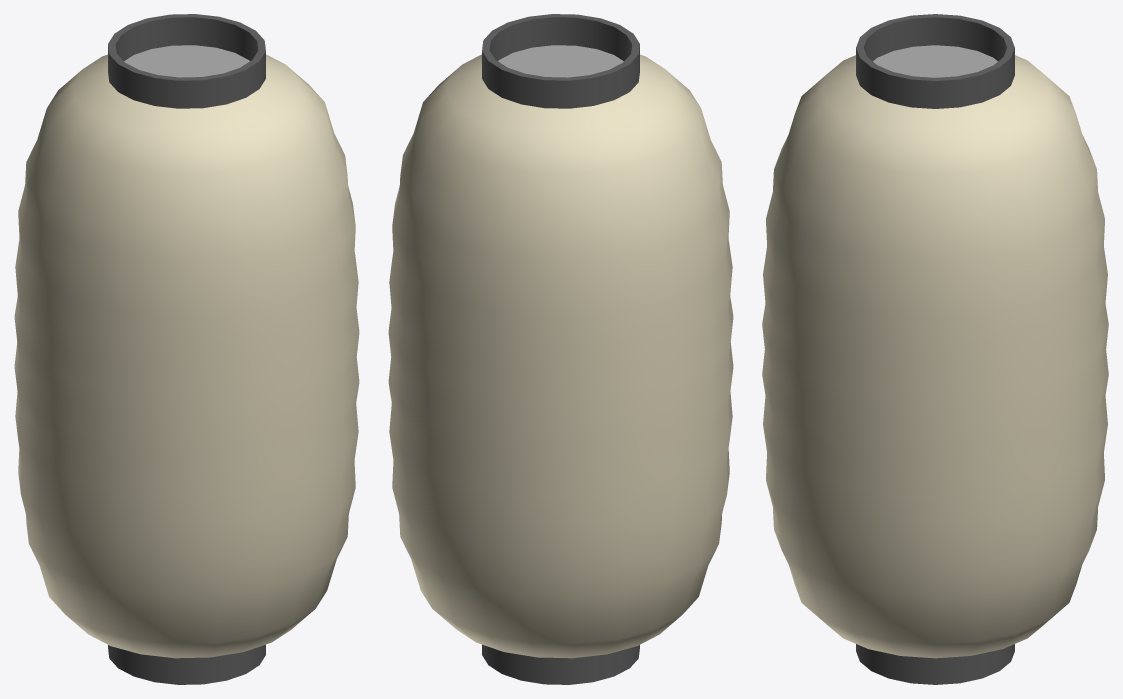
File: Lamp.fbx
The picture shows the model from 3 angles, left to right: view 1: azimuth 30°, elevation 25°; view 2: azimuth 150°, elevation 25°; view 3: azimuth 270°, elevation 25°; orthographic projection.
Visible parts, largest first — view 1: Lamp; view 2: Lamp; view 3: Lamp.
Boxes of the visible parts, x1=… form: Lamp: x1=14, y1=14, x2=359, y2=684; Lamp: x1=388, y1=14, x2=733, y2=684; Lamp: x1=762, y1=14, x2=1108, y2=684.
Size of the model in its own units: 0.1451 by 0.2789 by 0.1451.
